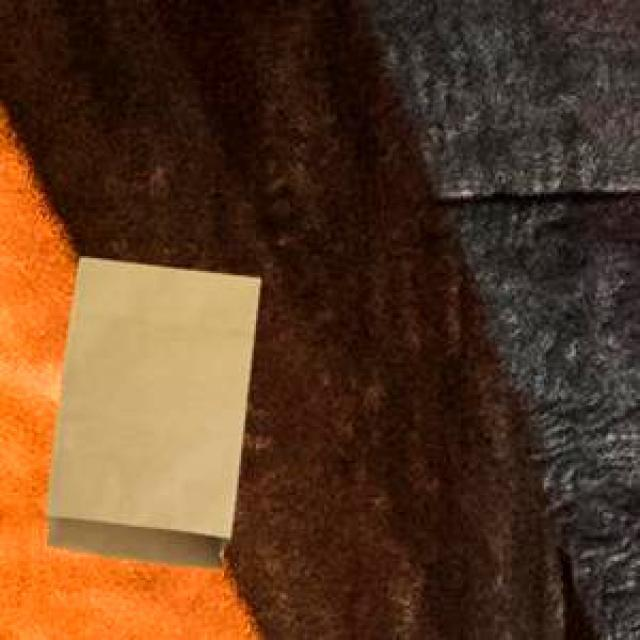Paper_Bag: (41, 255, 258, 564)
